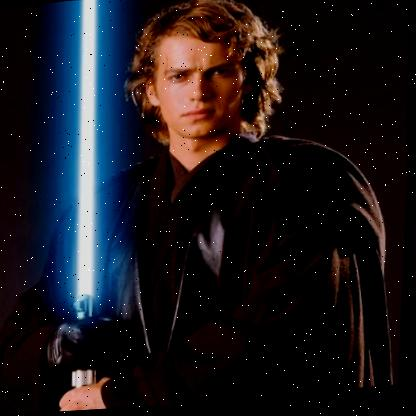lightsaber: (36, 0, 137, 413)
